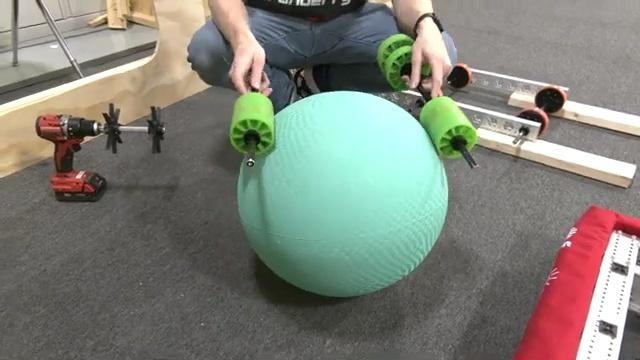ALGAE: (234, 88, 449, 298)
